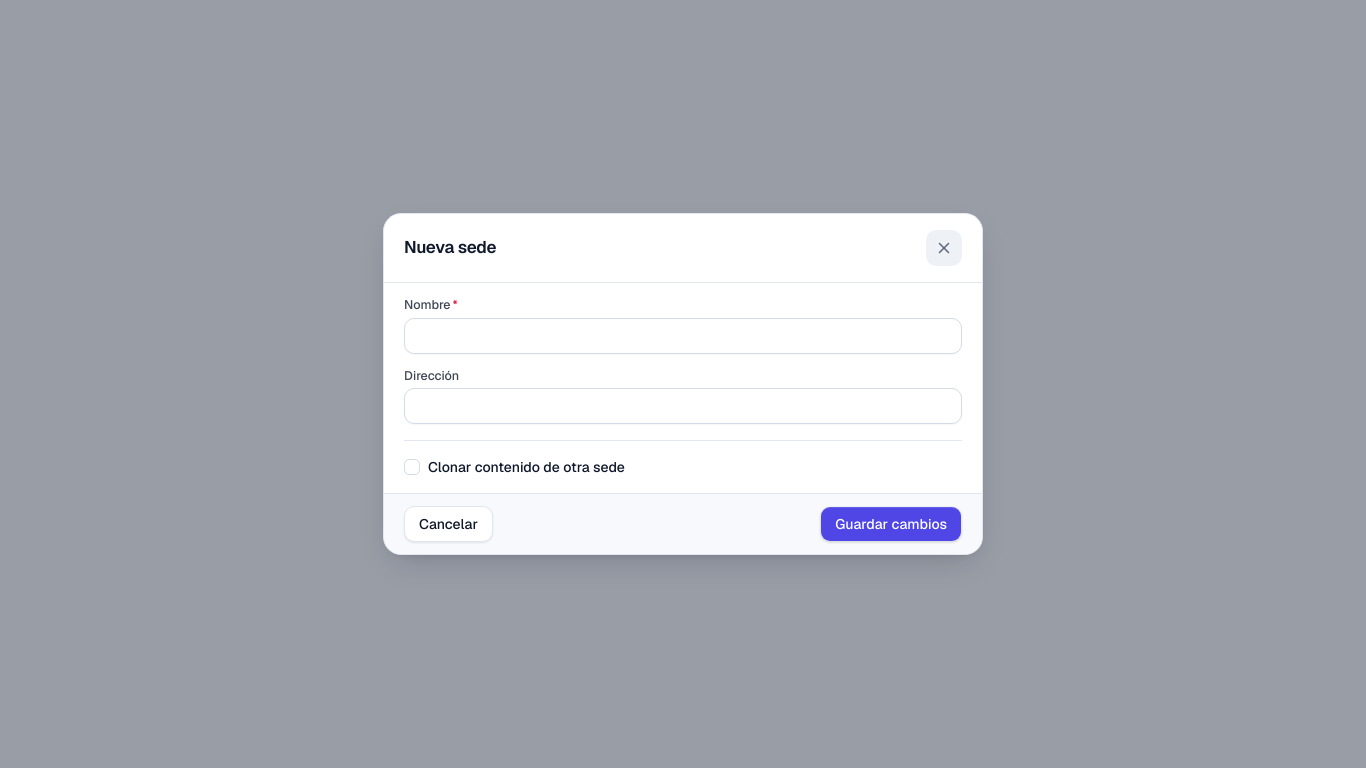
SedeForm › permite clonar desde una sede de origen y presenta el resumen
This screenshot has width=1366, height=768.
Click the checkbox named "clonar contenido de otra sede". click: (412, 467)
box: [404,459,420,475]
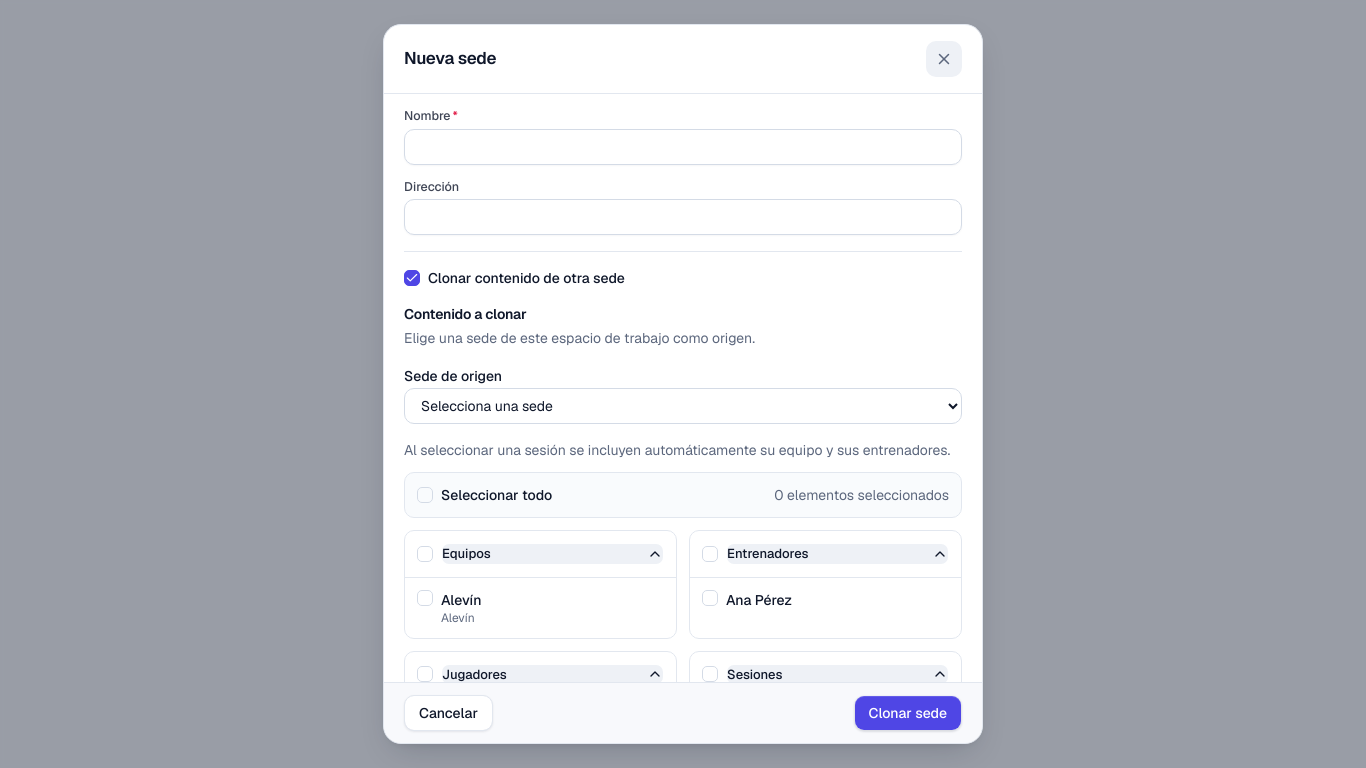
Select "Sede de origen" in the dropdown labelled "Sede de origen". click: (683, 406)
box: [404,388,962,424]
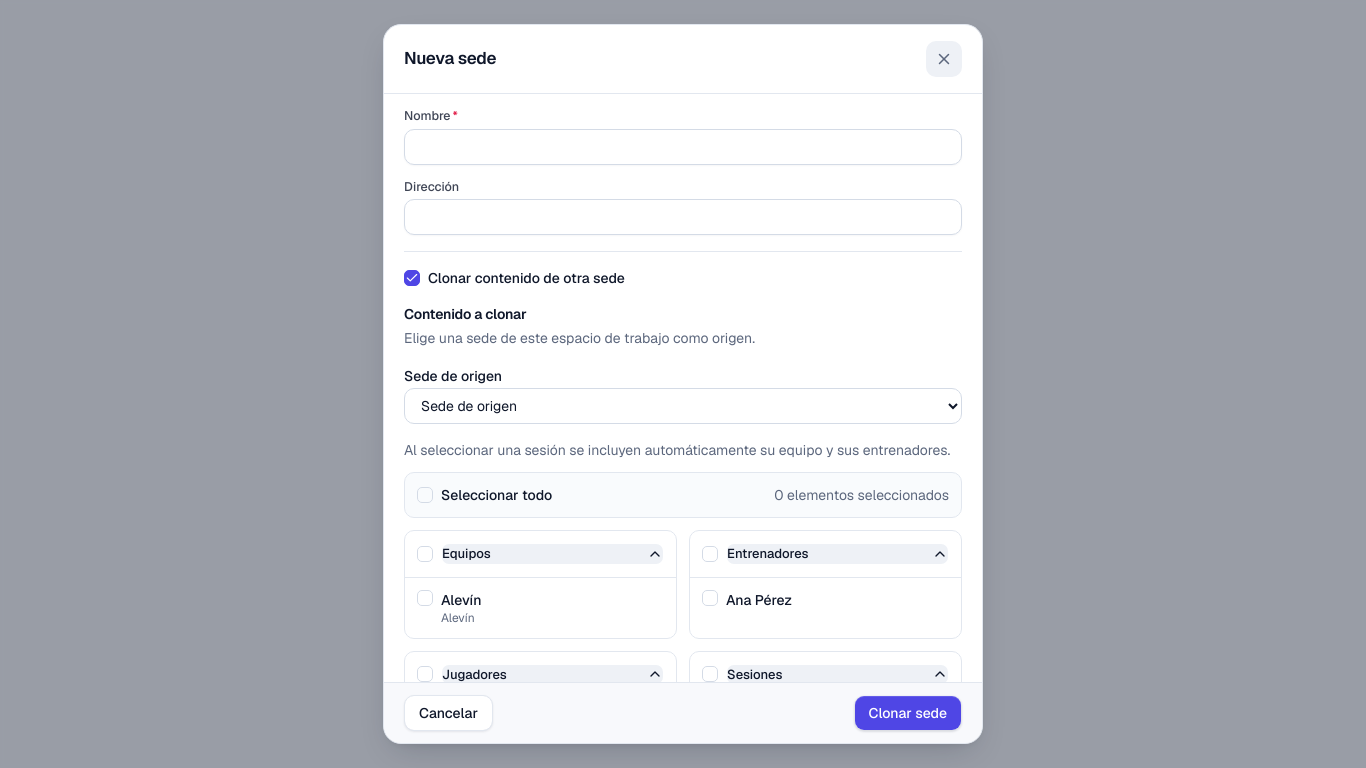
Click the checkbox named "seleccionar equipos". click: (425, 554)
box: [417,546,433,562]
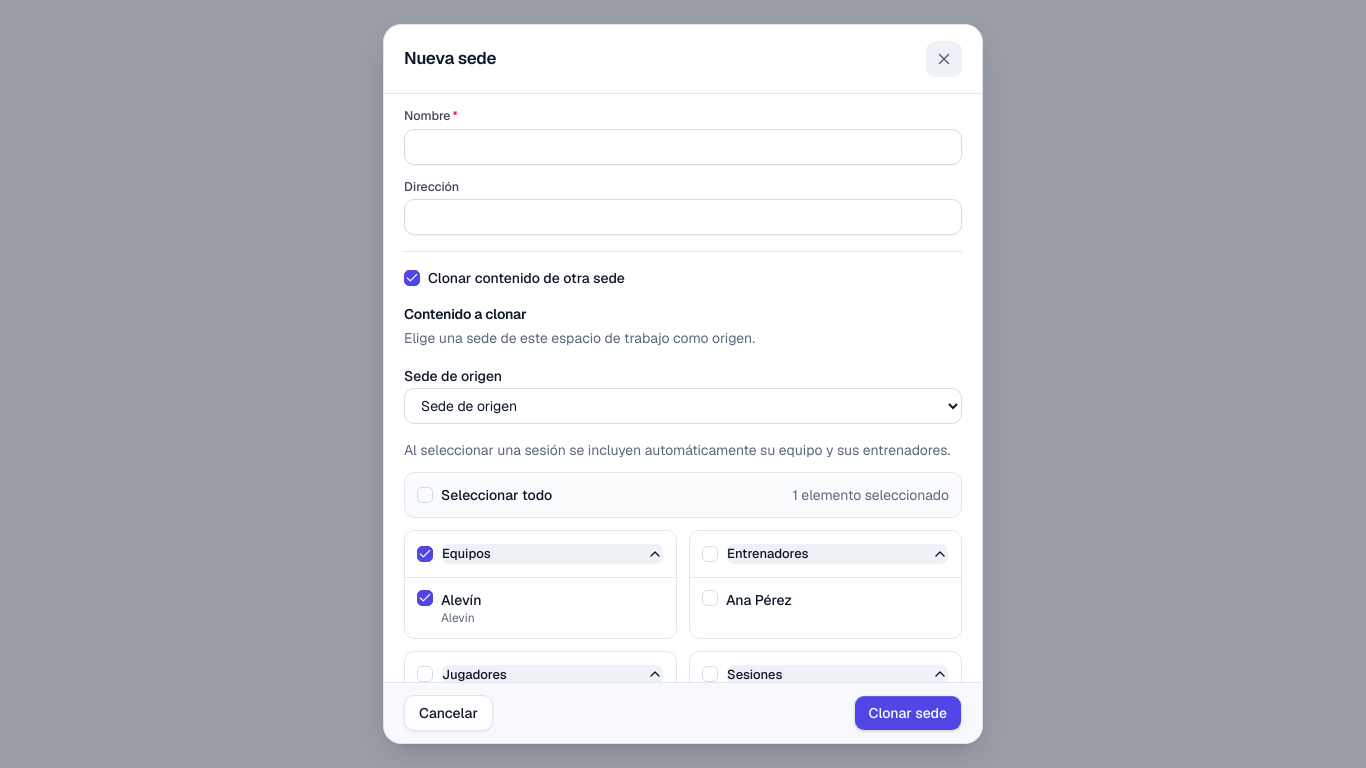
Type "Sede clonada" into the field labelled "Nombre*". click: (683, 146)
box: [404,128,962,164]
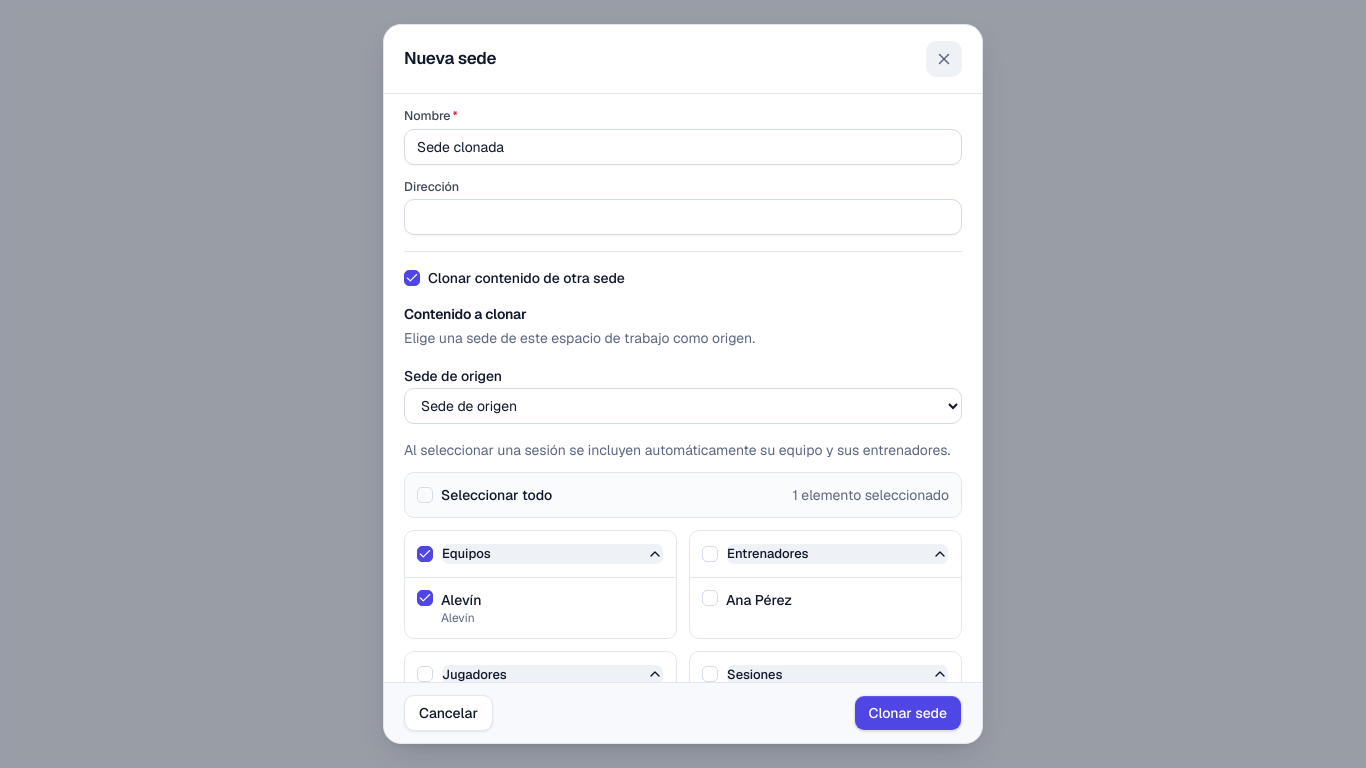
Type "Calle nueva" into the field labelled "Dirección". click: (683, 217)
box: [404,199,962,235]
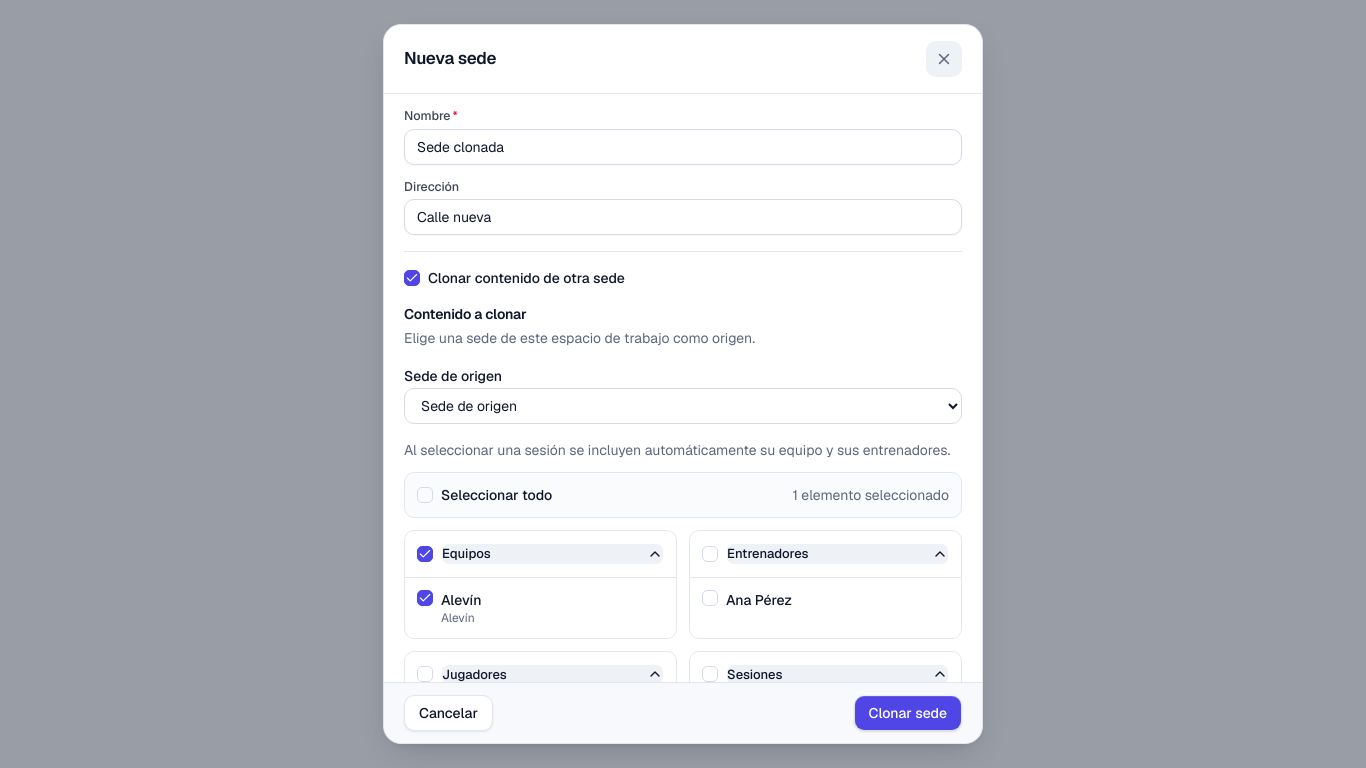
Click the button "Clonar sede". click: (908, 713)
box: [854,695,962,731]
(page scrolled)
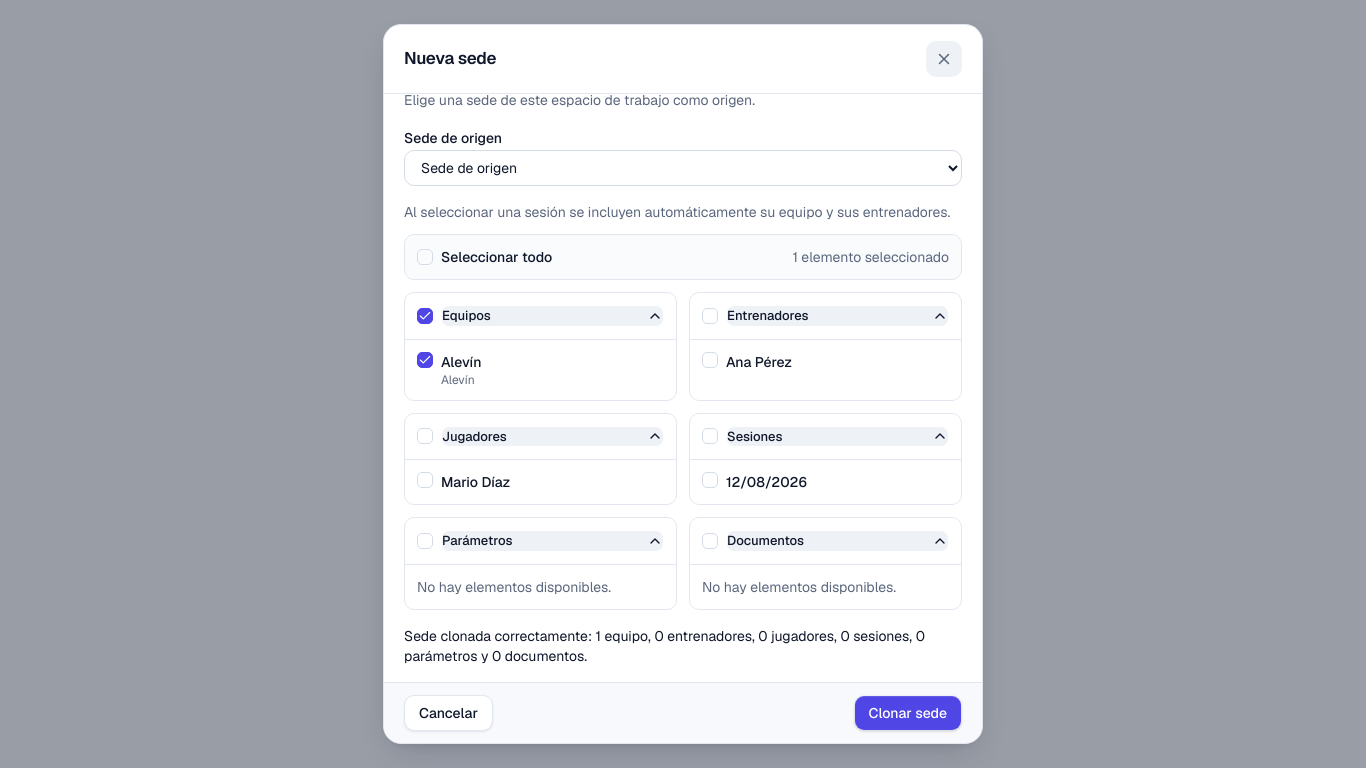
Check: the text "Sede clonada correctamente" shows "1 equipo", box [404,626,962,666]
